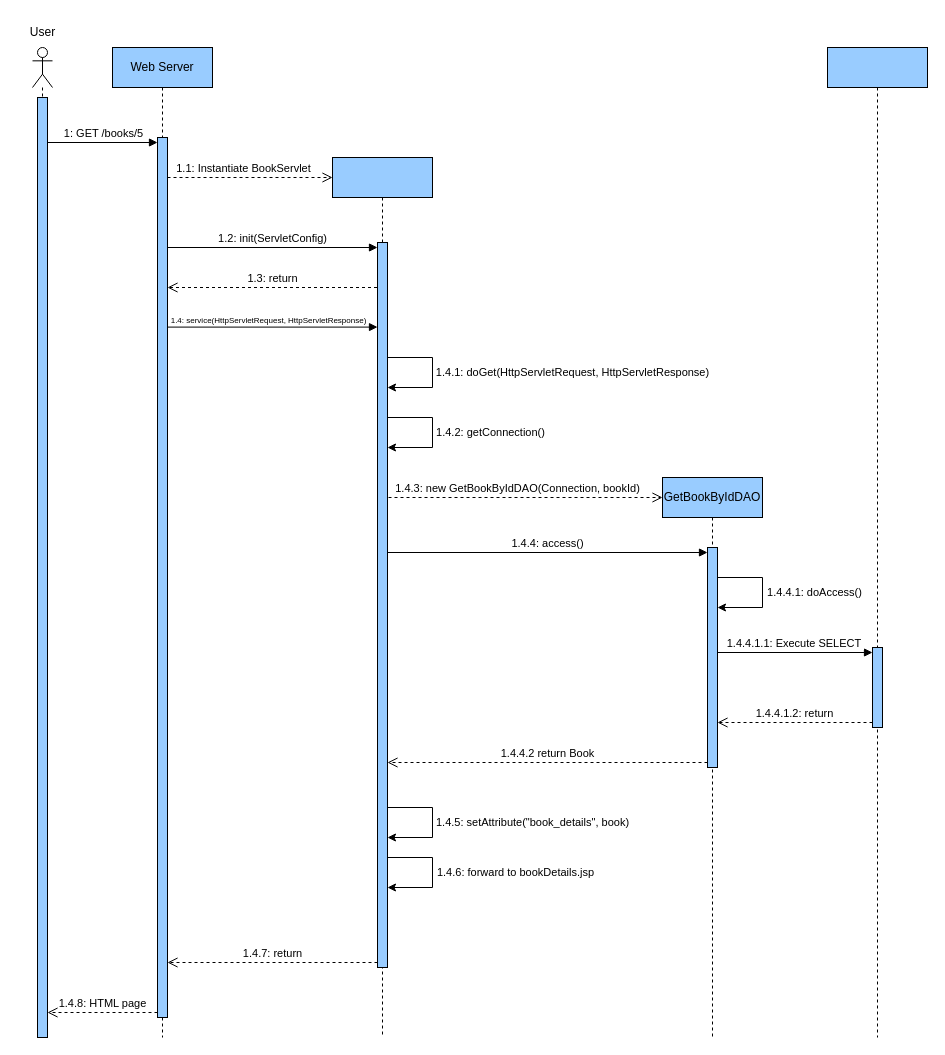
Image size: 945x1055. Some labels were removed from this diagram. The shapes that lost their labels are listed below. From the top down, each one's box as (x1, y1, x2, y2) in pixels, then its label:
(826, 46, 928, 1038): Database Server
(332, 156, 432, 1038): BookServlet
